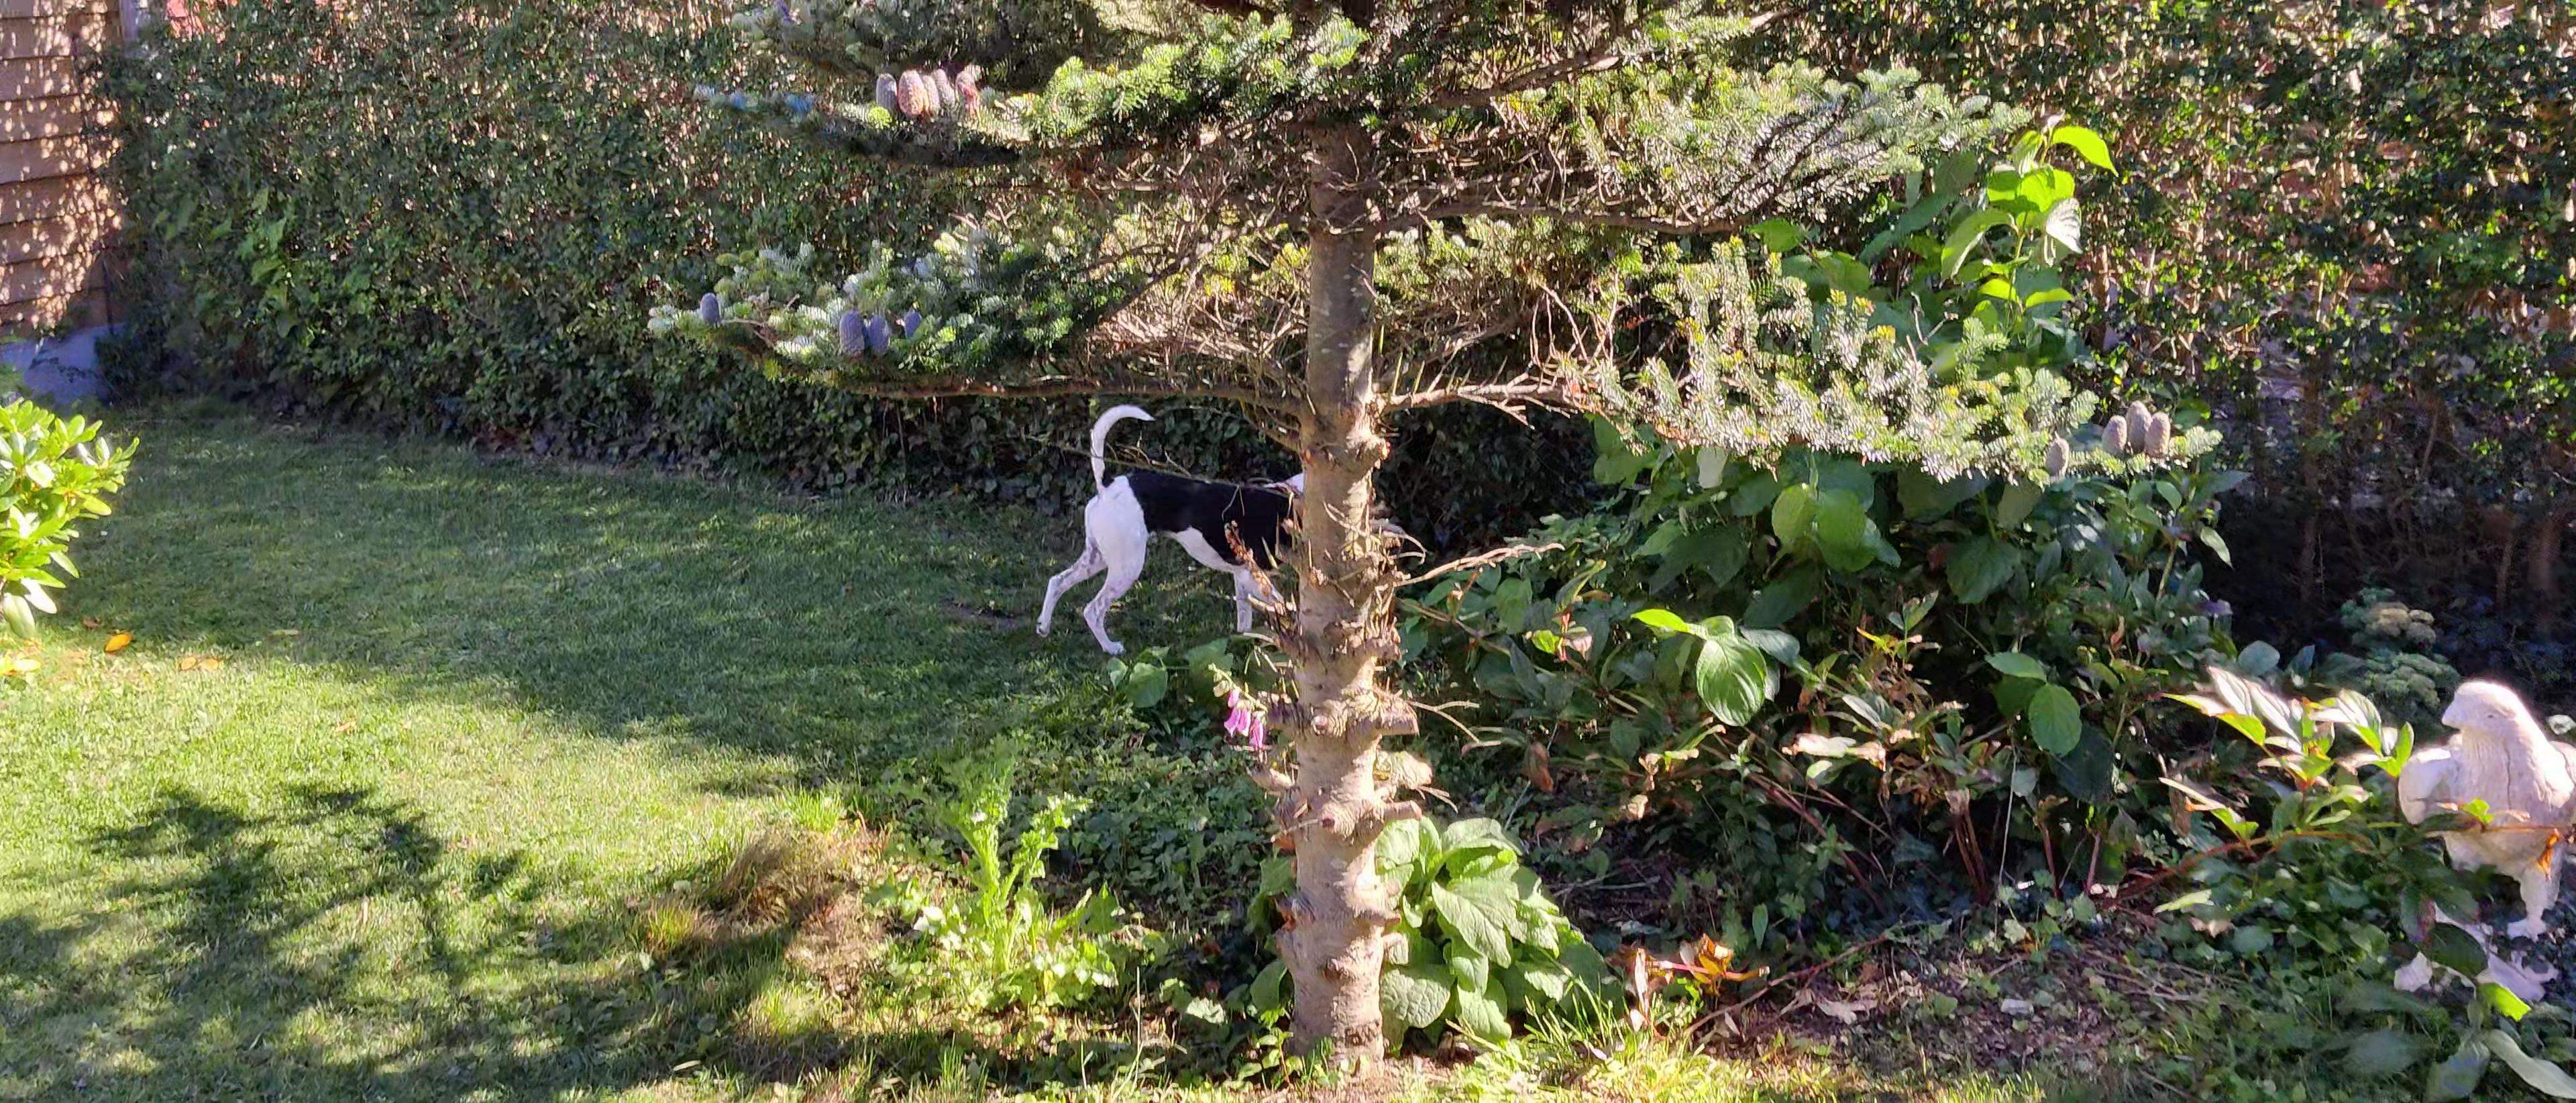Dog: (1033, 404, 1395, 656)
